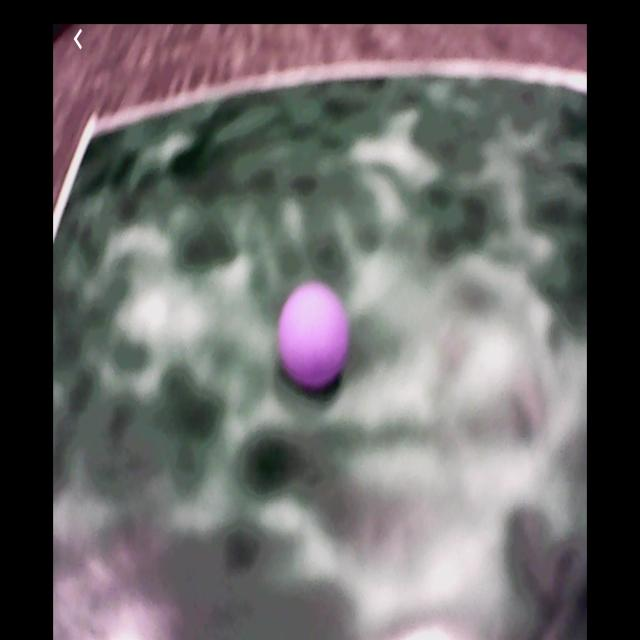ball: (279, 281, 349, 393)
